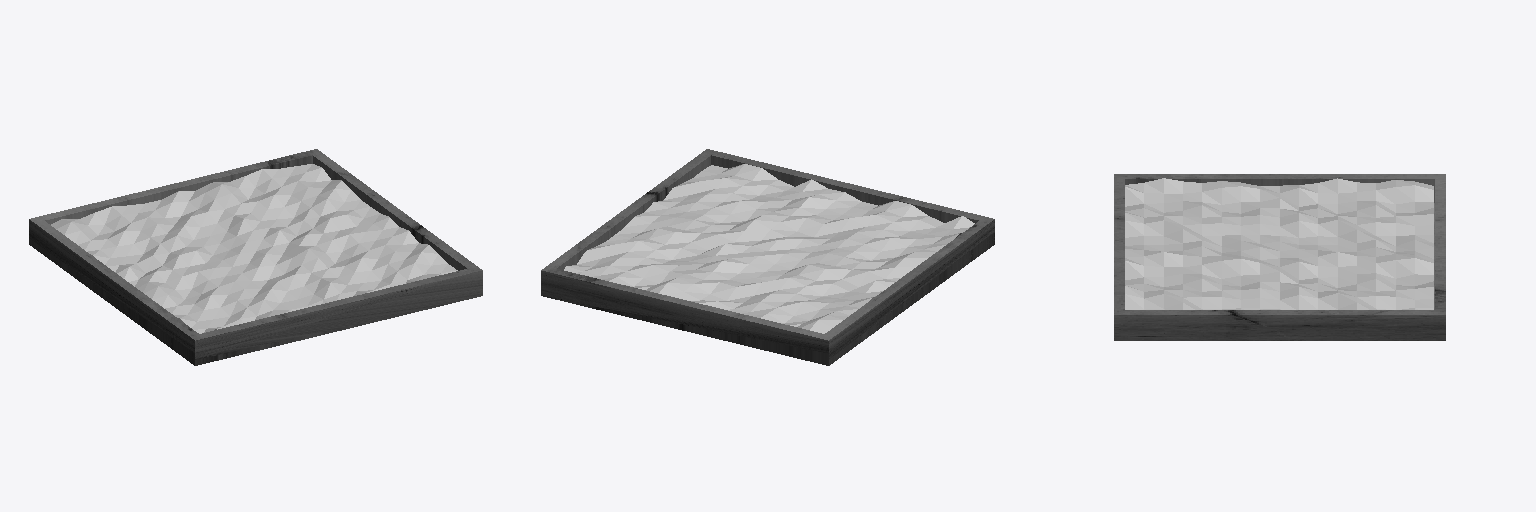
The picture shows the model from 3 angles: view 1: azimuth 30°, elevation 25°; view 2: azimuth 150°, elevation 25°; view 3: azimuth 270°, elevation 25°; orthographic projection.
Visible parts, largest first — view 1: Cube.001_Cube.002; view 2: Cube.001_Cube.002; view 3: Cube.001_Cube.002.
Boxes of the visible parts, x1,y1,x2,y2 form: Cube.001_Cube.002: [29, 149, 482, 365]; Cube.001_Cube.002: [541, 149, 994, 365]; Cube.001_Cube.002: [1114, 174, 1445, 340].
Bounding box in the file's own units: 1.53 × 0.1448 × 1.53.
2 materials, 1 textured.